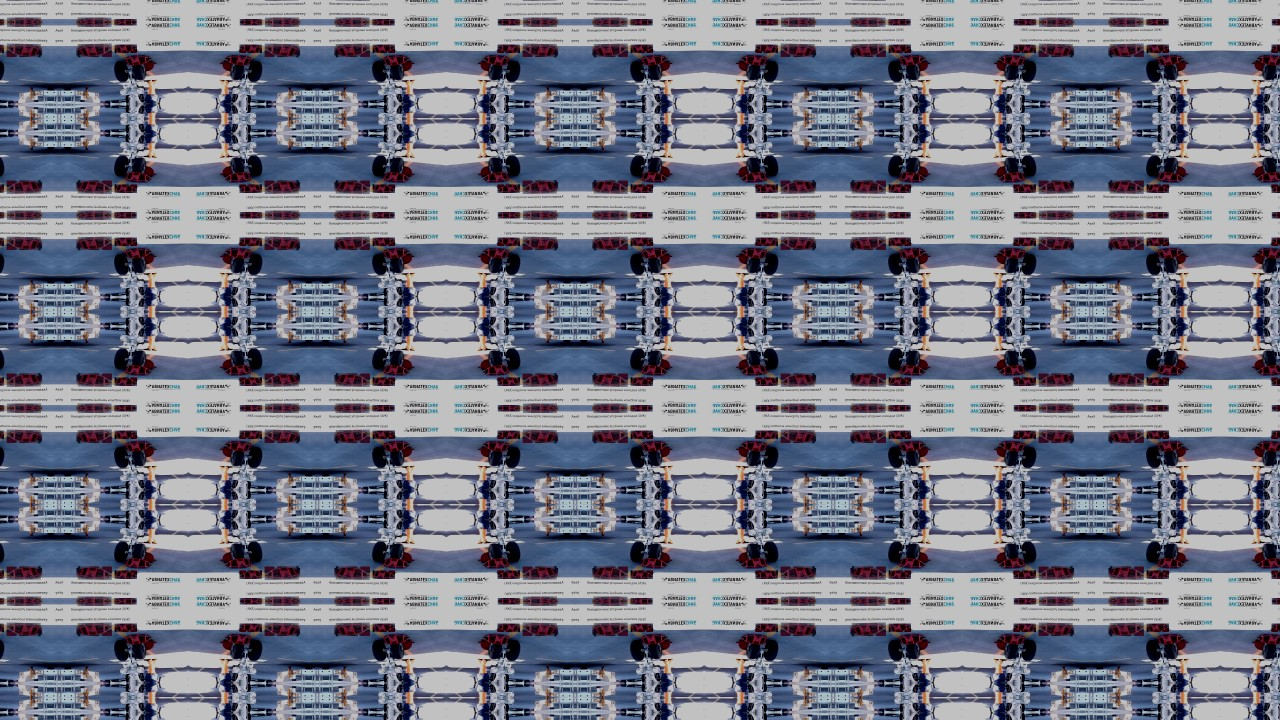chock: (4, 42, 38, 56), (76, 42, 110, 56), (263, 42, 297, 56), (335, 42, 369, 56), (522, 42, 556, 56), (594, 42, 628, 56), (781, 42, 815, 56), (853, 42, 887, 56), (1040, 42, 1074, 56), (1112, 42, 1146, 56), (4, 179, 38, 193), (76, 179, 110, 193), (263, 179, 297, 193), (335, 179, 369, 193), (522, 179, 556, 193), (594, 179, 628, 193), (781, 179, 815, 193), (853, 179, 887, 193), (1040, 179, 1074, 193), (1112, 179, 1146, 193), (4, 236, 38, 250), (76, 236, 110, 250), (263, 236, 297, 250), (335, 236, 369, 250), (522, 236, 556, 250), (594, 236, 628, 250), (781, 236, 815, 250), (853, 236, 887, 250), (1040, 236, 1074, 250), (1112, 236, 1146, 250), (4, 373, 38, 387), (76, 373, 110, 387), (263, 373, 297, 387), (335, 373, 369, 387), (522, 373, 556, 387), (594, 373, 628, 387), (781, 373, 815, 387), (853, 373, 887, 387), (1040, 373, 1074, 387), (1112, 373, 1146, 387), (4, 430, 38, 444), (76, 430, 110, 444), (263, 430, 297, 444), (335, 430, 369, 444), (522, 430, 556, 444), (594, 430, 628, 444), (781, 430, 815, 444), (853, 430, 887, 444), (1040, 430, 1074, 444), (1112, 430, 1146, 444), (4, 567, 38, 581), (76, 567, 110, 581), (263, 567, 297, 581), (335, 567, 369, 581), (522, 567, 556, 581), (594, 567, 628, 581), (781, 567, 815, 581), (853, 567, 887, 581), (1040, 567, 1074, 581), (1112, 567, 1146, 581), (4, 624, 38, 638), (76, 624, 110, 638), (263, 624, 297, 638), (335, 624, 369, 638), (522, 624, 556, 638), (594, 624, 628, 638), (781, 624, 815, 638), (853, 624, 887, 638), (1040, 624, 1074, 638), (1112, 624, 1146, 638), (123, 53, 150, 64), (223, 53, 250, 64), (382, 53, 409, 64), (482, 53, 509, 64), (641, 53, 668, 64), (741, 53, 768, 64), (900, 53, 927, 64), (1000, 53, 1027, 64), (1159, 53, 1186, 64), (123, 171, 150, 182), (223, 171, 250, 182), (382, 171, 409, 182), (482, 171, 509, 182), (641, 171, 668, 182), (741, 171, 768, 182), (900, 171, 927, 182), (1000, 171, 1027, 182), (1159, 171, 1186, 182), (123, 247, 150, 258), (223, 247, 250, 258), (382, 247, 409, 258), (482, 247, 509, 258), (641, 247, 668, 258), (741, 247, 768, 258), (900, 247, 927, 258), (1000, 247, 1027, 258), (1159, 247, 1186, 258), (123, 365, 150, 376), (223, 365, 250, 376), (382, 365, 409, 376), (482, 365, 509, 376), (641, 365, 668, 376), (741, 365, 768, 376), (900, 365, 927, 376), (1000, 365, 1027, 376), (1159, 365, 1186, 376), (123, 441, 150, 452), (223, 441, 250, 452), (382, 441, 409, 452), (482, 441, 509, 452), (641, 441, 668, 452), (741, 441, 768, 452), (900, 441, 927, 452), (1000, 441, 1027, 452), (1159, 441, 1186, 452), (123, 559, 150, 570), (223, 559, 250, 570), (382, 559, 409, 570), (482, 559, 509, 570), (641, 559, 668, 570), (741, 559, 768, 570), (900, 559, 927, 570), (1000, 559, 1027, 570), (1159, 559, 1186, 570), (123, 635, 150, 646), (223, 635, 250, 646), (382, 635, 409, 646), (482, 635, 509, 646), (641, 635, 668, 646), (741, 635, 768, 646), (900, 635, 927, 646), (1000, 635, 1027, 646), (1159, 635, 1186, 646), (1259, 53, 1280, 64), (1259, 171, 1280, 182), (1259, 247, 1280, 258), (1259, 365, 1280, 376), (1259, 441, 1280, 452), (1259, 559, 1280, 570), (1259, 635, 1280, 646), (18, 45, 40, 54), (113, 43, 135, 52), (74, 45, 96, 54), (238, 43, 260, 52), (277, 45, 299, 54), (372, 43, 394, 52), (333, 45, 355, 54), (497, 43, 519, 52), (536, 45, 558, 54), (631, 43, 653, 52), (592, 45, 614, 54), (756, 43, 778, 52), (795, 45, 817, 54), (890, 43, 912, 52), (851, 45, 873, 54), (1015, 43, 1037, 52), (1054, 45, 1076, 54), (1149, 43, 1171, 52), (1110, 45, 1132, 54), (18, 181, 40, 190), (113, 183, 135, 192), (74, 181, 96, 190), (238, 183, 260, 192), (277, 181, 299, 190), (372, 183, 394, 192), (333, 181, 355, 190), (497, 183, 519, 192), (536, 181, 558, 190), (631, 183, 653, 192), (592, 181, 614, 190), (756, 183, 778, 192), (795, 181, 817, 190), (890, 183, 912, 192), (851, 181, 873, 190), (1015, 183, 1037, 192), (1054, 181, 1076, 190), (1149, 183, 1171, 192), (1110, 181, 1132, 190), (18, 239, 40, 248), (113, 237, 135, 246), (74, 239, 96, 248), (238, 237, 260, 246), (277, 239, 299, 248), (372, 237, 394, 246), (333, 239, 355, 248), (497, 237, 519, 246), (536, 239, 558, 248), (631, 237, 653, 246), (592, 239, 614, 248), (756, 237, 778, 246), (795, 239, 817, 248), (890, 237, 912, 246), (851, 239, 873, 248), (1015, 237, 1037, 246), (1054, 239, 1076, 248), (1149, 237, 1171, 246), (1110, 239, 1132, 248), (18, 375, 40, 384), (113, 377, 135, 386), (74, 375, 96, 384), (238, 377, 260, 386), (277, 375, 299, 384), (372, 377, 394, 386), (333, 375, 355, 384), (497, 377, 519, 386), (536, 375, 558, 384), (631, 377, 653, 386), (592, 375, 614, 384), (756, 377, 778, 386), (795, 375, 817, 384), (890, 377, 912, 386), (851, 375, 873, 384), (1015, 377, 1037, 386), (1054, 375, 1076, 384), (1149, 377, 1171, 386), (1110, 375, 1132, 384), (18, 433, 40, 442), (113, 431, 135, 440), (74, 433, 96, 442), (238, 431, 260, 440), (277, 433, 299, 442), (372, 431, 394, 440), (333, 433, 355, 442), (497, 431, 519, 440), (536, 433, 558, 442), (631, 431, 653, 440), (592, 433, 614, 442), (756, 431, 778, 440), (795, 433, 817, 442), (890, 431, 912, 440), (851, 433, 873, 442), (1015, 431, 1037, 440), (1054, 433, 1076, 442), (1149, 431, 1171, 440), (1110, 433, 1132, 442), (18, 569, 40, 578), (113, 571, 135, 580), (74, 569, 96, 578), (238, 571, 260, 580), (277, 569, 299, 578), (372, 571, 394, 580), (333, 569, 355, 578), (497, 571, 519, 580), (536, 569, 558, 578), (631, 571, 653, 580), (592, 569, 614, 578), (756, 571, 778, 580), (795, 569, 817, 578), (890, 571, 912, 580), (851, 569, 873, 578), (1015, 571, 1037, 580), (1054, 569, 1076, 578), (1149, 571, 1171, 580), (1110, 569, 1132, 578), (18, 627, 40, 636), (113, 625, 135, 634), (74, 627, 96, 636), (238, 625, 260, 634), (277, 627, 299, 636), (372, 625, 394, 634), (333, 627, 355, 636), (497, 625, 519, 634), (536, 627, 558, 636), (631, 625, 653, 634), (592, 627, 614, 636), (756, 625, 778, 634), (795, 627, 817, 636), (890, 625, 912, 634), (851, 627, 873, 636), (1015, 625, 1037, 634), (1054, 627, 1076, 636), (1149, 625, 1171, 634), (1110, 627, 1132, 636), (4, 16, 39, 21), (75, 16, 110, 21), (263, 16, 298, 21), (334, 16, 369, 21), (522, 16, 557, 21), (593, 16, 628, 21), (781, 16, 816, 21), (852, 16, 887, 21), (1040, 16, 1075, 21), (1111, 16, 1146, 21), (4, 214, 39, 219), (75, 214, 110, 219), (263, 214, 298, 219), (334, 214, 369, 219), (522, 214, 557, 219), (593, 214, 628, 219), (781, 214, 816, 219), (852, 214, 887, 219), (1040, 214, 1075, 219), (1111, 214, 1146, 219), (4, 404, 39, 409), (75, 404, 110, 409), (263, 404, 298, 409), (334, 404, 369, 409), (522, 404, 557, 409), (593, 404, 628, 409), (781, 404, 816, 409), (852, 404, 887, 409), (1040, 404, 1075, 409), (1111, 404, 1146, 409), (4, 602, 39, 607), (75, 602, 110, 607), (263, 602, 298, 607), (334, 602, 369, 607), (522, 602, 557, 607), (593, 602, 628, 607), (781, 602, 816, 607), (852, 602, 887, 607), (1040, 602, 1075, 607), (1111, 602, 1146, 607), (4, 21, 39, 25), (75, 21, 110, 25), (263, 21, 298, 25), (334, 21, 369, 25), (522, 21, 557, 25), (593, 21, 628, 25), (781, 21, 816, 25), (852, 21, 887, 25), (1040, 21, 1075, 25), (1111, 21, 1146, 25), (4, 210, 39, 214), (75, 210, 110, 214), (263, 210, 298, 214), (334, 210, 369, 214), (522, 210, 557, 214), (593, 210, 628, 214), (781, 210, 816, 214), (852, 210, 887, 214), (1040, 210, 1075, 214), (1111, 210, 1146, 214), (4, 409, 39, 413), (75, 409, 110, 413), (263, 409, 298, 413), (334, 409, 369, 413), (522, 409, 557, 413), (593, 409, 628, 413), (781, 409, 816, 413), (852, 409, 887, 413), (1040, 409, 1075, 413), (1111, 409, 1146, 413), (4, 598, 39, 602), (75, 598, 110, 602), (263, 598, 298, 602), (334, 598, 369, 602), (522, 598, 557, 602), (593, 598, 628, 602), (781, 598, 816, 602), (852, 598, 887, 602), (1040, 598, 1075, 602), (1111, 598, 1146, 602), (142, 59, 154, 70), (219, 59, 231, 70), (401, 59, 413, 70), (478, 59, 490, 70), (660, 59, 672, 70), (737, 59, 749, 70), (919, 59, 931, 70), (996, 59, 1008, 70), (1178, 59, 1190, 70), (1255, 59, 1267, 70), (142, 165, 154, 176), (219, 165, 231, 176), (401, 165, 413, 176), (478, 165, 490, 176), (660, 165, 672, 176), (737, 165, 749, 176), (919, 165, 931, 176), (996, 165, 1008, 176), (1178, 165, 1190, 176), (1255, 165, 1267, 176), (142, 253, 154, 264), (219, 253, 231, 264), (401, 253, 413, 264), (478, 253, 490, 264), (660, 253, 672, 264), (737, 253, 749, 264), (919, 253, 931, 264), (996, 253, 1008, 264), (1178, 253, 1190, 264), (1255, 253, 1267, 264), (142, 359, 154, 370), (219, 359, 231, 370), (401, 359, 413, 370), (478, 359, 490, 370), (660, 359, 672, 370), (737, 359, 749, 370), (919, 359, 931, 370), (996, 359, 1008, 370), (1178, 359, 1190, 370), (1255, 359, 1267, 370), (142, 447, 154, 458), (219, 447, 231, 458), (401, 447, 413, 458), (478, 447, 490, 458), (660, 447, 672, 458), (737, 447, 749, 458), (919, 447, 931, 458), (996, 447, 1008, 458), (1178, 447, 1190, 458), (1255, 447, 1267, 458), (142, 553, 154, 564), (219, 553, 231, 564), (401, 553, 413, 564), (478, 553, 490, 564), (660, 553, 672, 564), (737, 553, 749, 564), (919, 553, 931, 564), (996, 553, 1008, 564), (1178, 553, 1190, 564), (1255, 553, 1267, 564), (142, 641, 154, 652), (219, 641, 231, 652), (401, 641, 413, 652), (478, 641, 490, 652), (660, 641, 672, 652), (737, 641, 749, 652), (919, 641, 931, 652), (996, 641, 1008, 652), (1178, 641, 1190, 652), (1255, 641, 1267, 652), (112, 20, 135, 24), (238, 20, 261, 24), (371, 20, 394, 24), (497, 20, 520, 24), (630, 20, 653, 24), (756, 20, 779, 24), (889, 20, 912, 24), (1015, 20, 1038, 24), (1148, 20, 1171, 24), (112, 211, 135, 215), (238, 211, 261, 215), (371, 211, 394, 215), (497, 211, 520, 215), (630, 211, 653, 215), (756, 211, 779, 215), (889, 211, 912, 215), (1015, 211, 1038, 215), (1148, 211, 1171, 215), (112, 408, 135, 412), (238, 408, 261, 412), (371, 408, 394, 412), (497, 408, 520, 412), (630, 408, 653, 412), (756, 408, 779, 412), (889, 408, 912, 412), (1015, 408, 1038, 412), (1148, 408, 1171, 412), (112, 17, 135, 20), (238, 17, 261, 20), (371, 17, 394, 20), (497, 17, 520, 20), (630, 17, 653, 20), (756, 17, 779, 20), (889, 17, 912, 20), (1015, 17, 1038, 20), (1148, 17, 1171, 20), (112, 215, 135, 218), (238, 215, 261, 218), (371, 215, 394, 218), (497, 215, 520, 218), (630, 215, 653, 218), (756, 215, 779, 218), (889, 215, 912, 218), (1015, 215, 1038, 218), (1148, 215, 1171, 218), (112, 405, 135, 408), (238, 405, 261, 408), (371, 405, 394, 408), (497, 405, 520, 408), (630, 405, 653, 408), (756, 405, 779, 408), (889, 405, 912, 408), (1015, 405, 1038, 408), (1148, 405, 1171, 408), (112, 599, 135, 602), (238, 599, 261, 602), (371, 599, 394, 602), (497, 599, 520, 602), (630, 599, 653, 602), (756, 599, 779, 602), (889, 599, 912, 602), (1015, 599, 1038, 602), (1148, 599, 1171, 602), (112, 603, 135, 606), (238, 603, 261, 606), (371, 603, 394, 606), (497, 603, 520, 606), (630, 603, 653, 606), (756, 603, 779, 606), (889, 603, 912, 606), (1015, 603, 1038, 606), (1148, 603, 1171, 606), (1274, 43, 1280, 52), (1274, 183, 1280, 192), (1274, 237, 1280, 246), (1274, 377, 1280, 386), (1274, 431, 1280, 440), (1274, 571, 1280, 580), (1274, 625, 1280, 634), (1274, 20, 1280, 24), (1274, 211, 1280, 215), (1274, 408, 1280, 412), (1274, 17, 1280, 20), (1274, 215, 1280, 218), (1274, 405, 1280, 408), (1274, 599, 1280, 602), (1274, 603, 1280, 606)
wheel: (112, 60, 127, 81), (246, 60, 261, 81), (371, 60, 386, 81), (505, 60, 520, 81), (630, 60, 645, 81), (764, 60, 779, 81), (889, 60, 904, 81), (1023, 60, 1038, 81), (1148, 60, 1163, 81), (112, 154, 127, 175), (246, 154, 261, 175), (371, 154, 386, 175), (505, 154, 520, 175), (630, 154, 645, 175), (764, 154, 779, 175), (889, 154, 904, 175), (1023, 154, 1038, 175), (1148, 154, 1163, 175), (112, 254, 127, 275), (246, 254, 261, 275), (371, 254, 386, 275), (505, 254, 520, 275), (630, 254, 645, 275), (764, 254, 779, 275), (889, 254, 904, 275), (1023, 254, 1038, 275), (1148, 254, 1163, 275), (112, 348, 127, 369), (246, 348, 261, 369), (371, 348, 386, 369), (505, 348, 520, 369), (630, 348, 645, 369), (764, 348, 779, 369), (889, 348, 904, 369), (1023, 348, 1038, 369), (1148, 348, 1163, 369), (112, 448, 127, 469), (246, 448, 261, 469), (371, 448, 386, 469), (505, 448, 520, 469), (630, 448, 645, 469), (764, 448, 779, 469), (889, 448, 904, 469), (1023, 448, 1038, 469), (1148, 448, 1163, 469), (112, 542, 127, 563), (246, 542, 261, 563), (371, 542, 386, 563), (505, 542, 520, 563), (630, 542, 645, 563), (764, 542, 779, 563), (889, 542, 904, 563), (1023, 542, 1038, 563), (1148, 542, 1163, 563), (112, 642, 127, 663), (246, 642, 261, 663), (371, 642, 386, 663), (505, 642, 520, 663), (630, 642, 645, 663), (764, 642, 779, 663), (889, 642, 904, 663), (1023, 642, 1038, 663), (1148, 642, 1163, 663), (130, 63, 145, 79), (228, 63, 243, 79), (389, 63, 404, 79), (487, 63, 502, 79), (648, 63, 663, 79), (746, 63, 761, 79), (907, 63, 922, 79), (1005, 63, 1020, 79), (1166, 63, 1181, 79), (1264, 63, 1279, 79), (130, 156, 145, 172), (228, 156, 243, 172), (389, 156, 404, 172), (487, 156, 502, 172), (648, 156, 663, 172), (746, 156, 761, 172), (907, 156, 922, 172), (1005, 156, 1020, 172), (1166, 156, 1181, 172), (1264, 156, 1279, 172), (130, 257, 145, 273), (228, 257, 243, 273), (389, 257, 404, 273), (487, 257, 502, 273), (648, 257, 663, 273), (746, 257, 761, 273), (907, 257, 922, 273), (1005, 257, 1020, 273), (1166, 257, 1181, 273), (1264, 257, 1279, 273), (130, 350, 145, 366), (228, 350, 243, 366), (389, 350, 404, 366), (487, 350, 502, 366), (648, 350, 663, 366), (746, 350, 761, 366), (907, 350, 922, 366), (1005, 350, 1020, 366), (1166, 350, 1181, 366), (1264, 350, 1279, 366), (130, 451, 145, 467), (228, 451, 243, 467), (389, 451, 404, 467), (487, 451, 502, 467), (648, 451, 663, 467), (746, 451, 761, 467), (907, 451, 922, 467), (1005, 451, 1020, 467), (1166, 451, 1181, 467), (1264, 451, 1279, 467), (130, 544, 145, 560), (228, 544, 243, 560), (389, 544, 404, 560), (487, 544, 502, 560), (648, 544, 663, 560), (746, 544, 761, 560), (907, 544, 922, 560), (1005, 544, 1020, 560), (1166, 544, 1181, 560), (1264, 544, 1279, 560), (130, 645, 145, 661), (228, 645, 243, 661), (389, 645, 404, 661), (487, 645, 502, 661), (648, 645, 663, 661), (746, 645, 761, 661), (907, 645, 922, 661), (1005, 645, 1020, 661), (1166, 645, 1181, 661), (1264, 645, 1279, 661), (0, 60, 2, 81), (0, 154, 2, 175), (0, 254, 2, 275), (0, 348, 2, 369), (0, 448, 2, 469), (0, 542, 2, 563), (0, 642, 2, 663)
